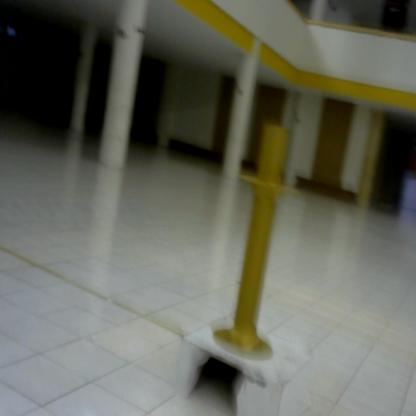pole: (216, 123, 314, 371)
